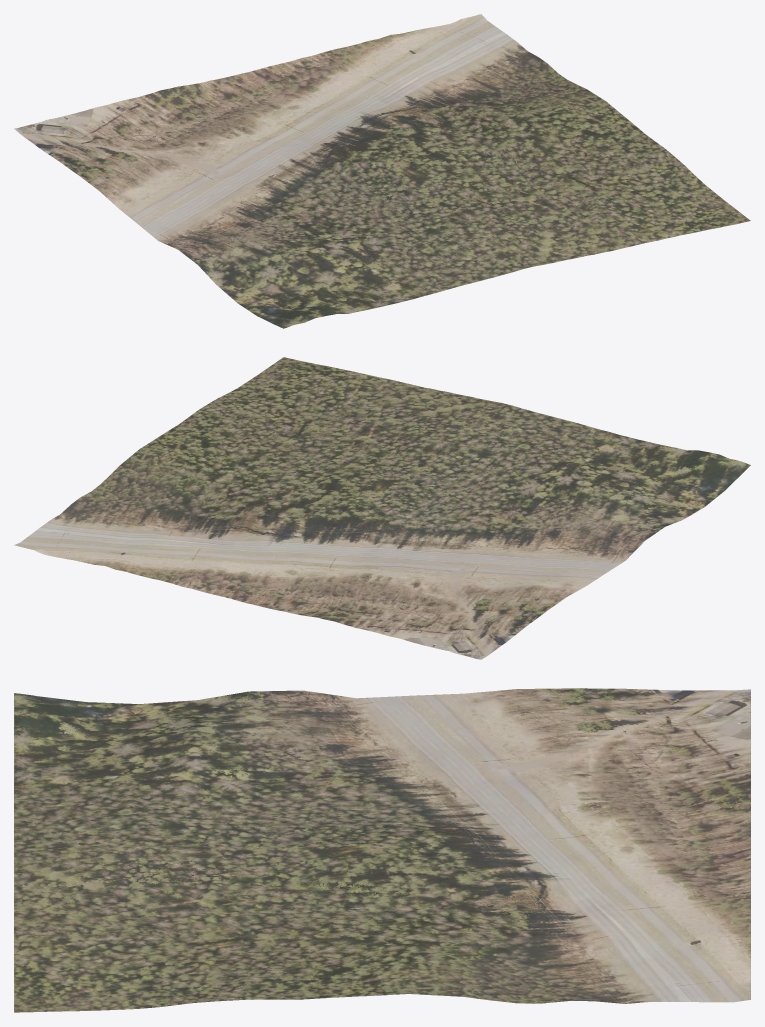
File: CM_Terrain_24493121_6814469.fbx
The picture shows the model from 3 angles, top to bottom: view 1: azimuth 30°, elevation 25°; view 2: azimuth 150°, elevation 25°; view 3: azimuth 270°, elevation 25°; orthographic projection. The views are drawn at different scales.
Visible parts, largest first — view 1: CM_Terrain_24493121_6814469_LOD0; view 2: CM_Terrain_24493121_6814469_LOD0; view 3: CM_Terrain_24493121_6814469_LOD0.
Part boxes in pixels (x1,y1,x2,y2): CM_Terrain_24493121_6814469_LOD0: (14, 14, 750, 328); CM_Terrain_24493121_6814469_LOD0: (14, 357, 750, 659); CM_Terrain_24493121_6814469_LOD0: (14, 688, 750, 1012).
Size of what is drawn, in the model's own units: 205 by 6.63 by 205.
